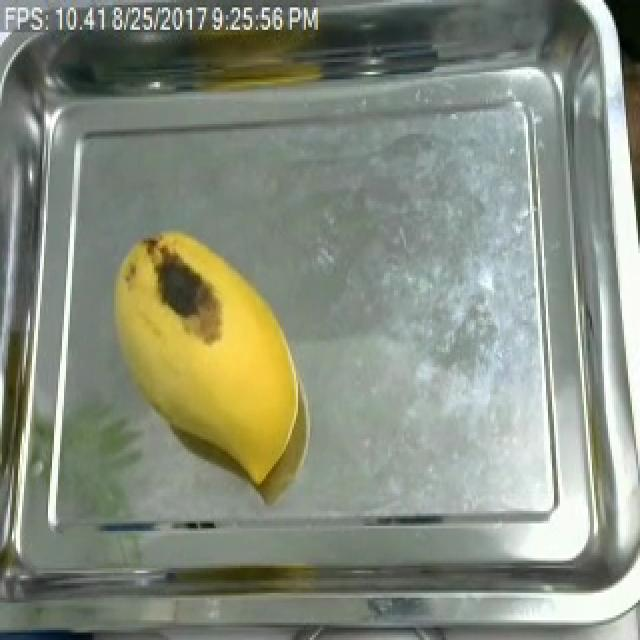fruit: (96, 216, 314, 501)
